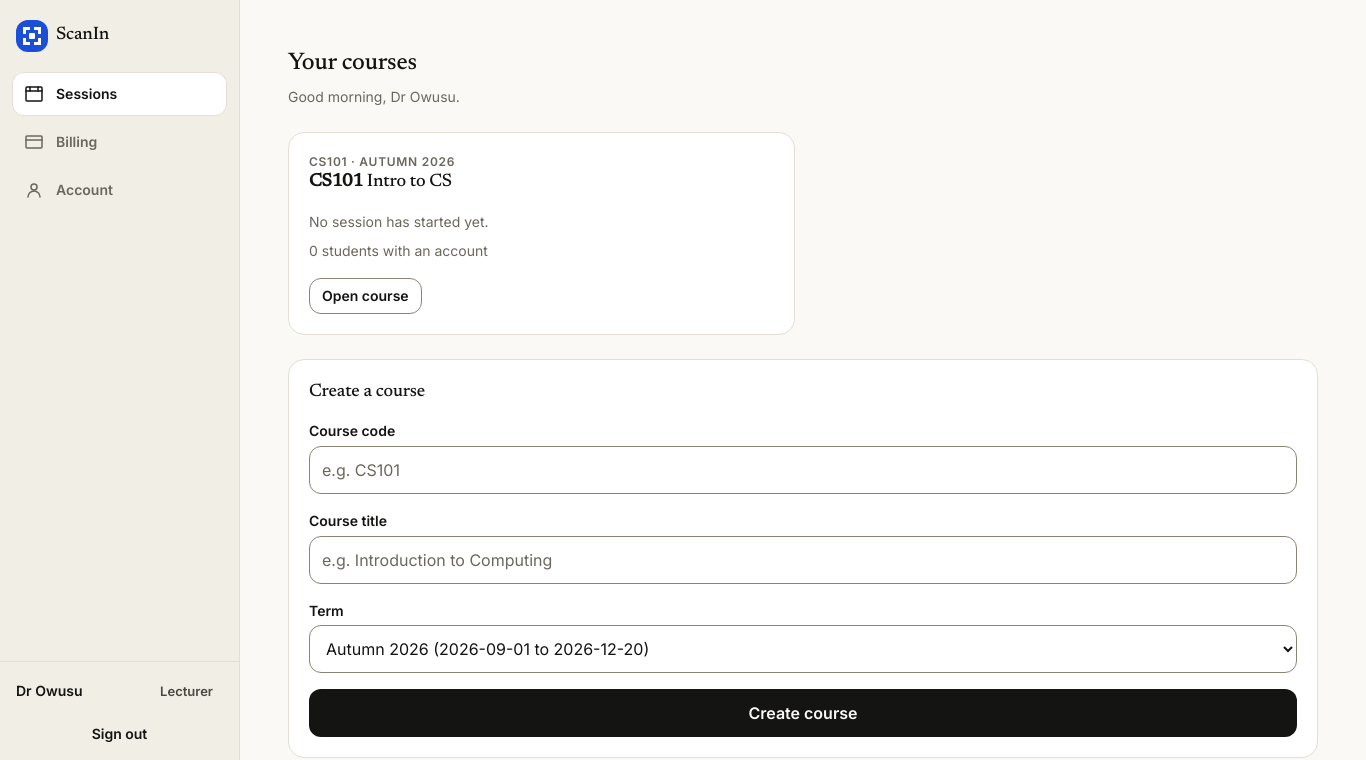
Test case: lecturer: courses and sessions › uses an existing term from the list, and explains a refusal
This screenshot has width=1366, height=760.
Expected: the form "Course code Course title Term Create course" is shown, [309,420,1297,737]
Expected: the dropdown labelled "Term" shows "Autumn 2026 (2026-09-01 to 2026-12-20)", [309,625,1297,673]
Type "CS101" into the field labelled "Course code".
click(803, 470); type("CS101")  # box [309,446,1297,494]
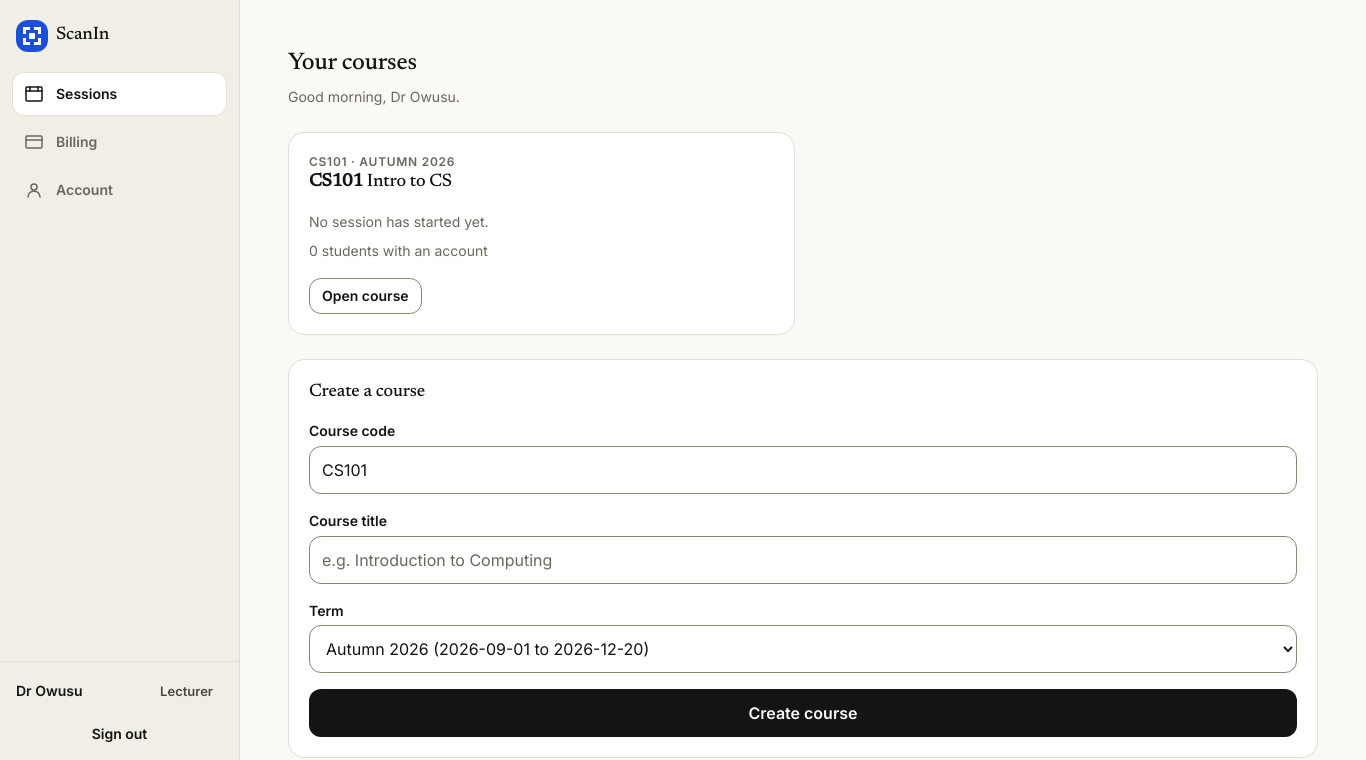
Type "Intro" into the field labelled "Course title".
click(803, 560); type("Intro")  # box [309,536,1297,584]
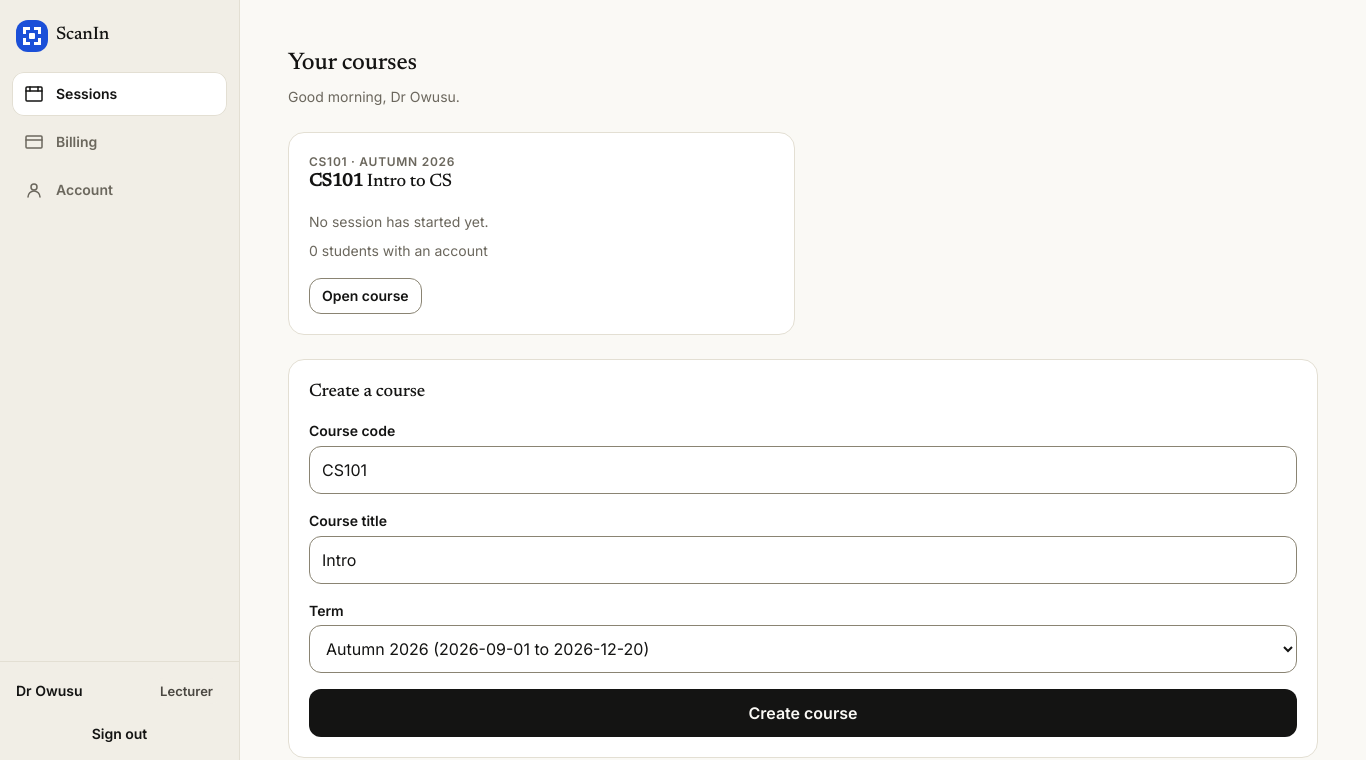
Click the button "Create course".
click(803, 713)  # box [309,689,1297,737]
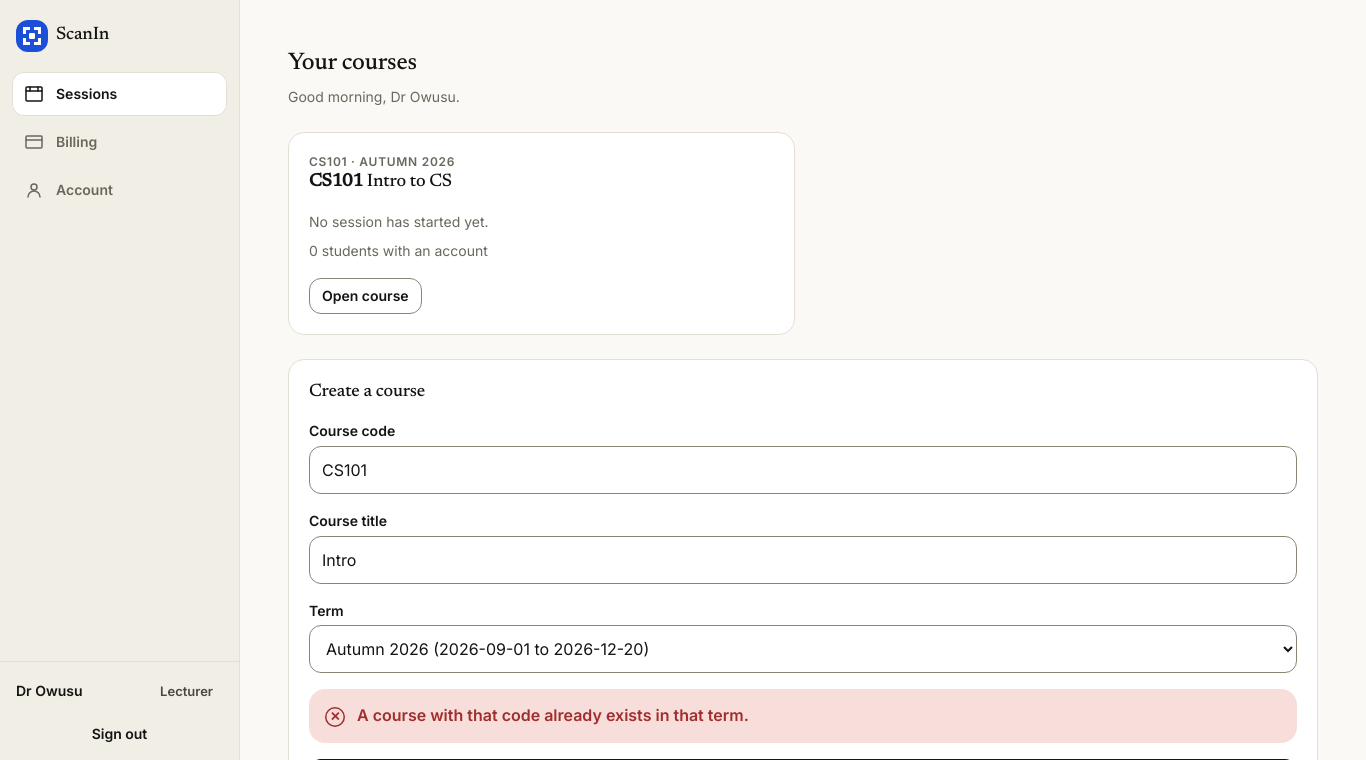
Now the heading "A course with that code already exists in that term." is shown, box [357,705,749,727]
